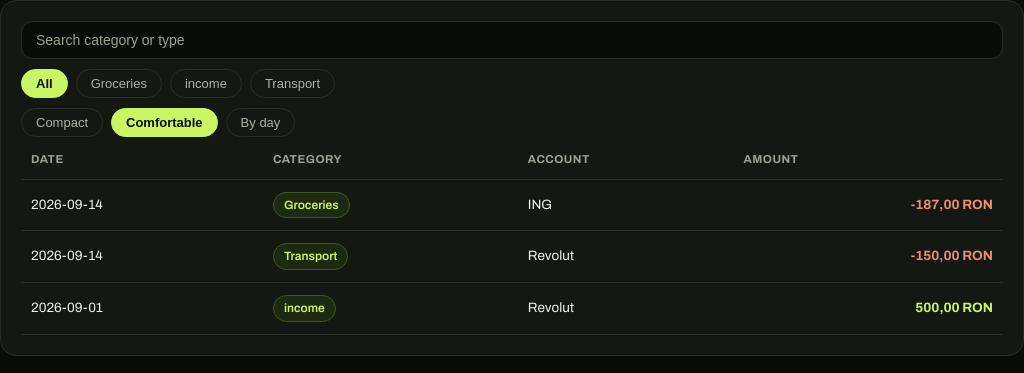
Test: TransactionsExplorer › shows an empty state when no transaction matches the filters
Type "nothing matches this" into the search field named "Search transactions".
click(512, 40); type("nothing matches this")  # box x1=21 y1=21 x2=1003 y2=59
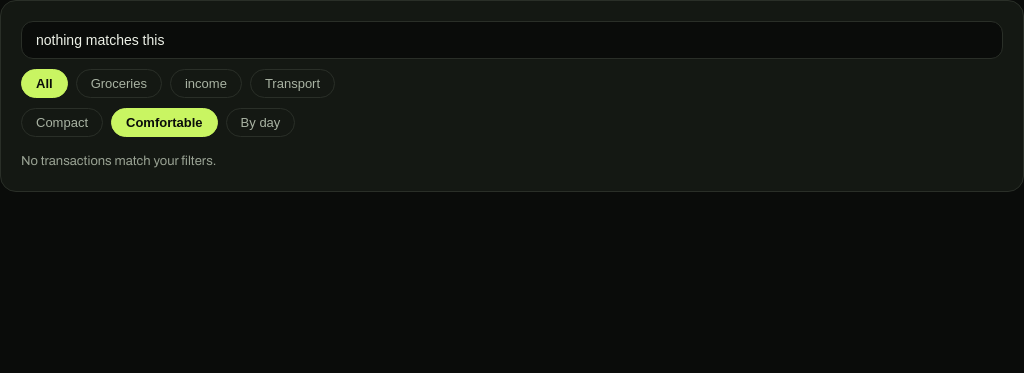
Now the text "No transactions match your filters." is shown, box x1=21 y1=154 x2=216 y2=168
